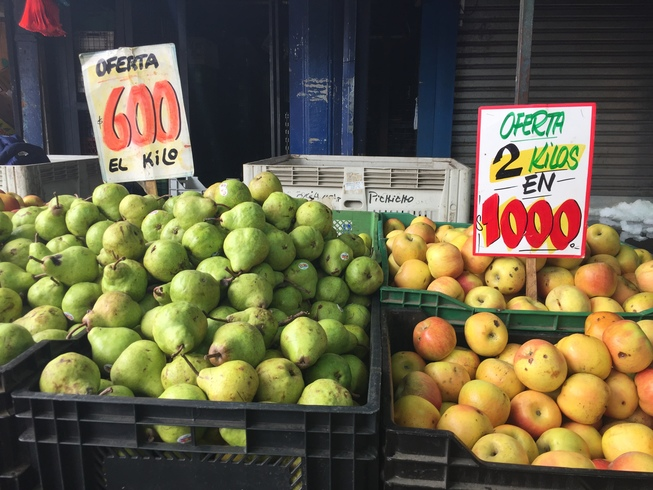precio: (469, 98, 602, 272), (76, 40, 205, 199)
